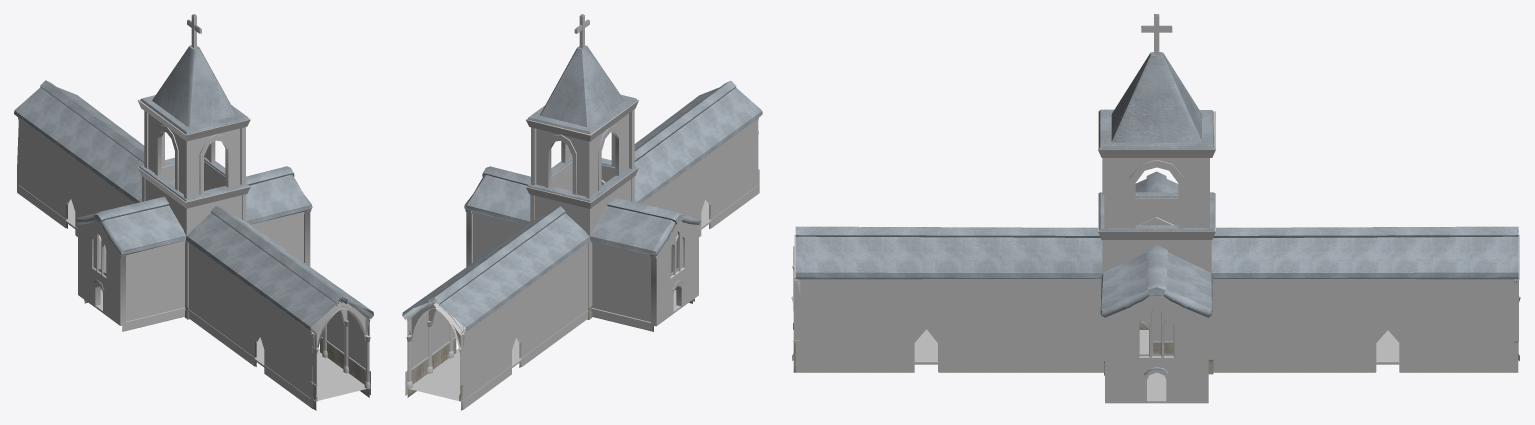
File: zhonglou_no.FBX
The picture shows the model from 3 angles, left to right: view 1: azimuth 30°, elevation 25°; view 2: azimuth 150°, elevation 25°; view 3: azimuth 270°, elevation 25°; orthographic projection. The views are drawn at different scales.
Visible parts, largest first — view 1: zhonglou_xue, zhonglou_qiang_02, qiangti01, zhonglou_qiang_03, zhonglou_qiang_04, zhonglou_fangyan, zhonglou_diban, zhonglou_qiang_05; view 2: zhonglou_xue, zhonglou_qiang_02, qiangti01, zhonglou_qiang_03, zhonglou_qiang_04, zhonglou_fangyan, zhonglou_diban, zhonglou_qiang_05; view 3: zhonglou_xue, zhonglou_qiang_02, zhonglou_qiang_03, qiangti01, zhonglou_qiang_04, zhonglou_fangyan, zhonglou_diban, zhonglou_qiang_05.
Boxes of the visible parts, x1,y1,x2,y2 form: zhonglou_xue: [14, 14, 373, 330]; zhonglou_qiang_02: [17, 120, 370, 401]; qiangti01: [18, 111, 370, 401]; zhonglou_qiang_03: [17, 169, 370, 408]; zhonglou_qiang_04: [148, 15, 240, 196]; zhonglou_fangyan: [137, 99, 250, 208]; zhonglou_diban: [68, 199, 364, 398]; zhonglou_qiang_05: [66, 203, 369, 410]; zhonglou_xue: [402, 14, 762, 331]; zhonglou_qiang_02: [407, 118, 758, 401]; qiangti01: [406, 109, 758, 401]; zhonglou_qiang_03: [405, 169, 759, 409]; zhonglou_qiang_04: [536, 15, 628, 196]; zhonglou_fangyan: [526, 100, 638, 208]; zhonglou_diban: [412, 199, 708, 398]; zhonglou_qiang_05: [407, 169, 757, 410]; zhonglou_xue: [795, 14, 1518, 374]; zhonglou_qiang_02: [793, 207, 1519, 403]; zhonglou_qiang_03: [795, 343, 1518, 372]; qiangti01: [791, 158, 1520, 403]; zhonglou_qiang_04: [1109, 15, 1204, 354]; zhonglou_fangyan: [1098, 111, 1215, 239]; zhonglou_diban: [914, 330, 1399, 398]; zhonglou_qiang_05: [793, 323, 1518, 375].
Bounding box in the file's own units: 28.18 × 38.74 × 74.81.
